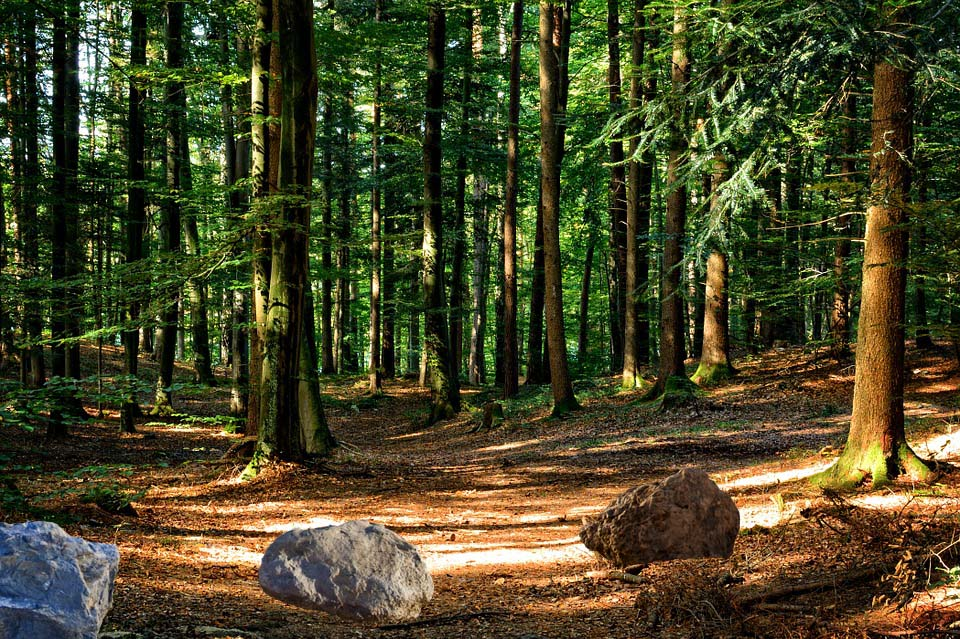Rocks: (254, 523, 440, 619), (577, 469, 744, 562), (1, 523, 117, 635)
